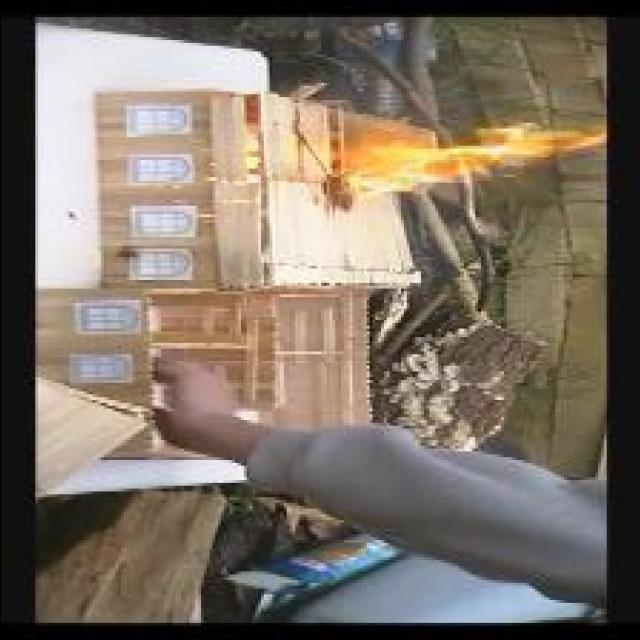Fire: (331, 123, 603, 191)
